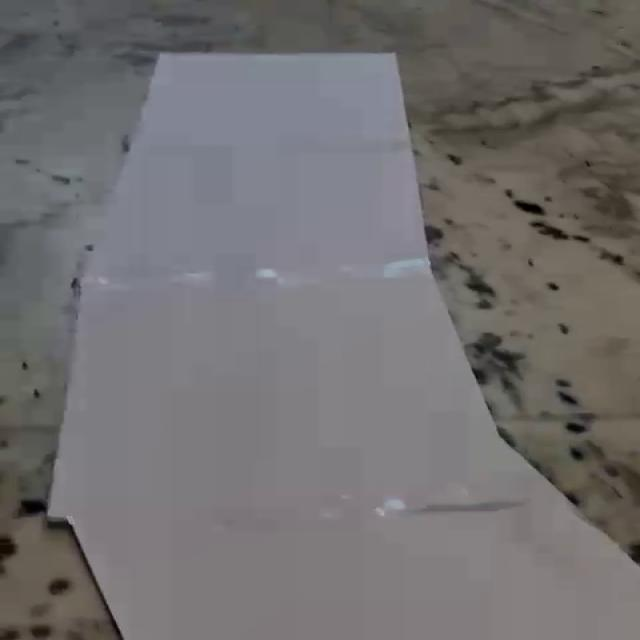road: (47, 51, 640, 640)
